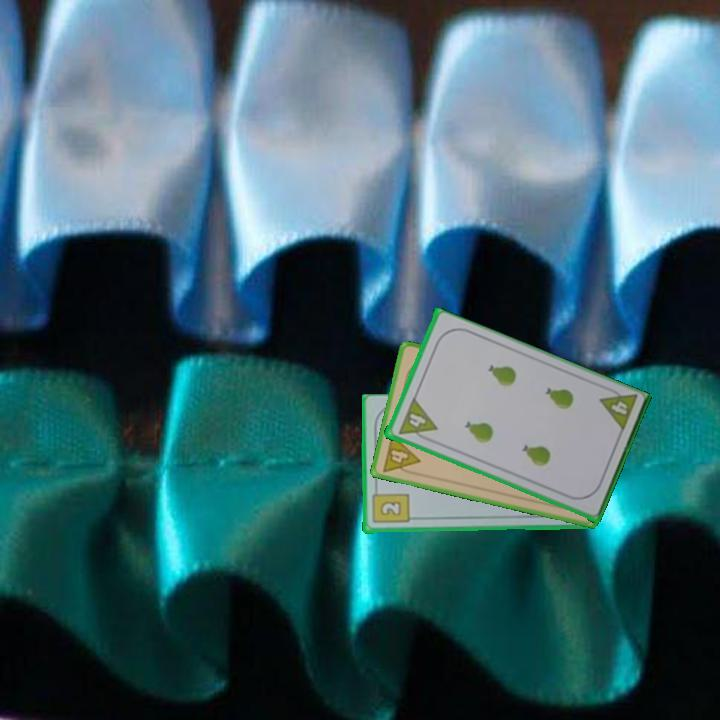2b: (369, 485, 411, 526)
4p: (595, 383, 640, 436), (394, 395, 439, 445), (379, 431, 423, 478)
